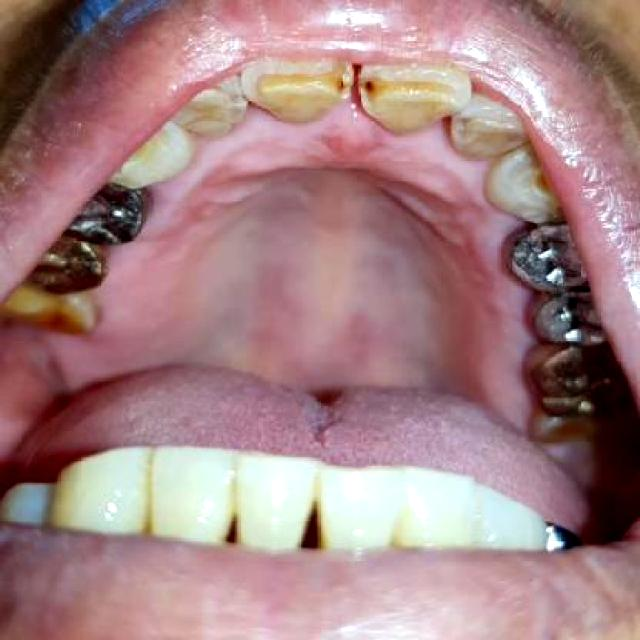Plaque: (442, 110, 504, 147), (348, 66, 400, 105)
